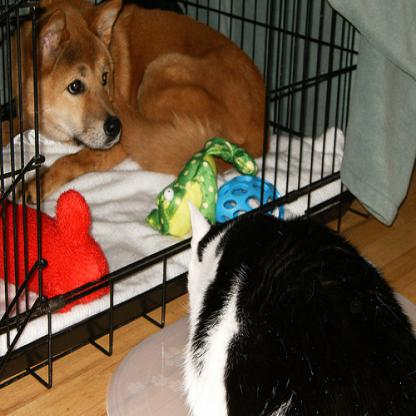cat: (185, 201, 415, 415)
dog: (0, 0, 273, 207)
